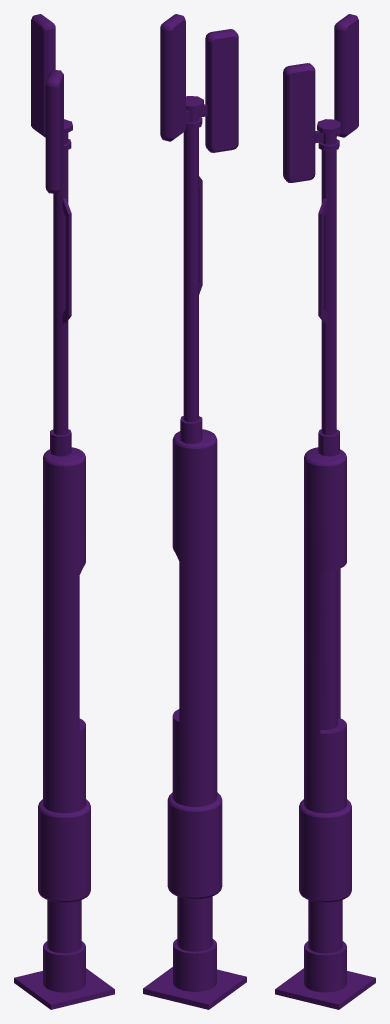
Rendered from LightPole01.fbx.
3 views of the same model, side by side, from view 1: azimuth 30°, elevation 25°; view 2: azimuth 150°, elevation 25°; view 3: azimuth 330°, elevation 25° (orthographic). The views are drawn at different scales.
Visible parts, largest first — view 1: LightPole01; view 2: LightPole01; view 3: LightPole01.
Boxes of the visible parts, x1,y1,x2,y2 form: LightPole01: (14,14,114,1009); LightPole01: (143,14,246,1009); LightPole01: (275,14,375,1009).
Bounding box in the file's own units: 50 × 714 × 64.45.
